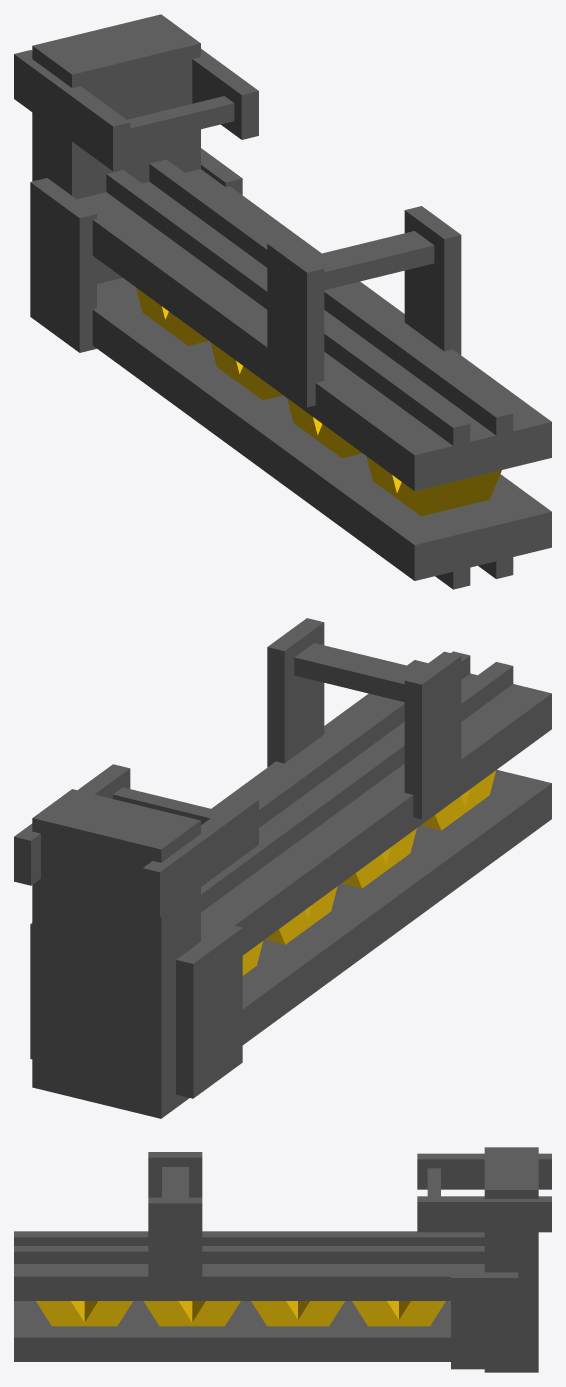
File: PortableRailgun.fbx
3 renders of one model, top to bottom at view 1: azimuth 30°, elevation 25°; view 2: azimuth 150°, elevation 25°; view 3: azimuth 270°, elevation 25°, orthographic. The views are drawn at different scales.
Parts seen in each view (by area): view 1: Cube.013, Cube.004; view 2: Cube.013, Cube.004; view 3: Cube.013, Cube.004.
Boxes of the visible parts, x1=… form: Cube.013: x1=14, y1=14, x2=551, y2=589; Cube.004: x1=136, y1=287, x2=501, y2=516; Cube.013: x1=14, y1=618, x2=551, y2=1118; Cube.004: x1=242, y1=770, x2=495, y2=975; Cube.013: x1=14, y1=1147, x2=551, y2=1372; Cube.004: x1=36, y1=1301, x2=445, y2=1326.
Size of the model in its own units: 41.8 by 66 by 176.
